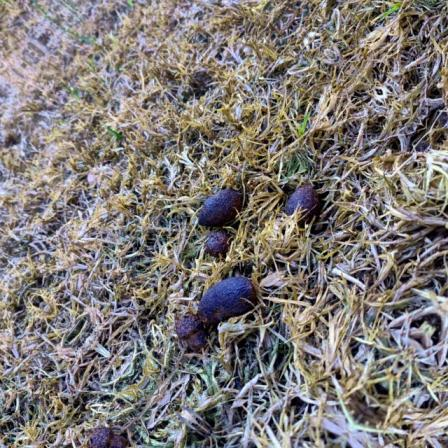dog-poop: (170, 276, 268, 341), (188, 180, 239, 262), (282, 169, 326, 228)
